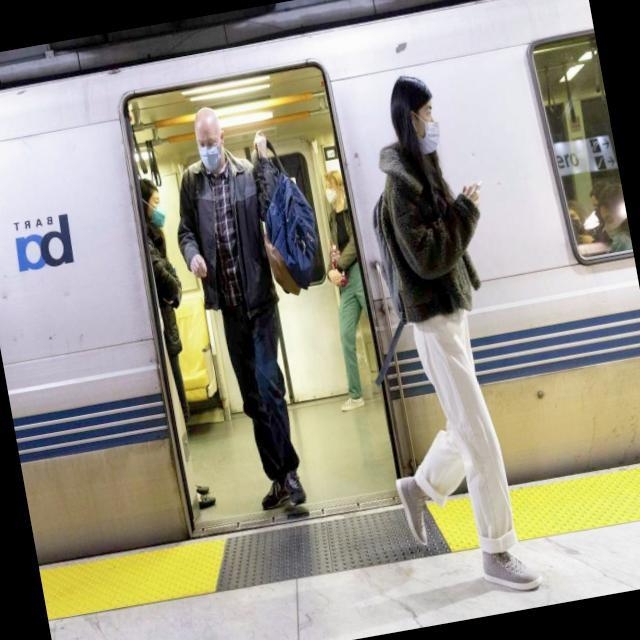person: (317, 57, 556, 626), (162, 90, 340, 534)
